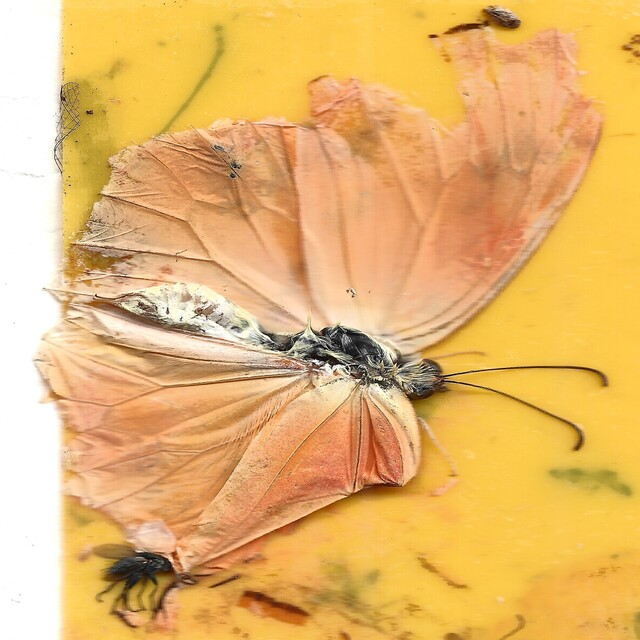Brachycera: (90, 544, 183, 618)
Lepidoptera: (30, 22, 610, 575)
